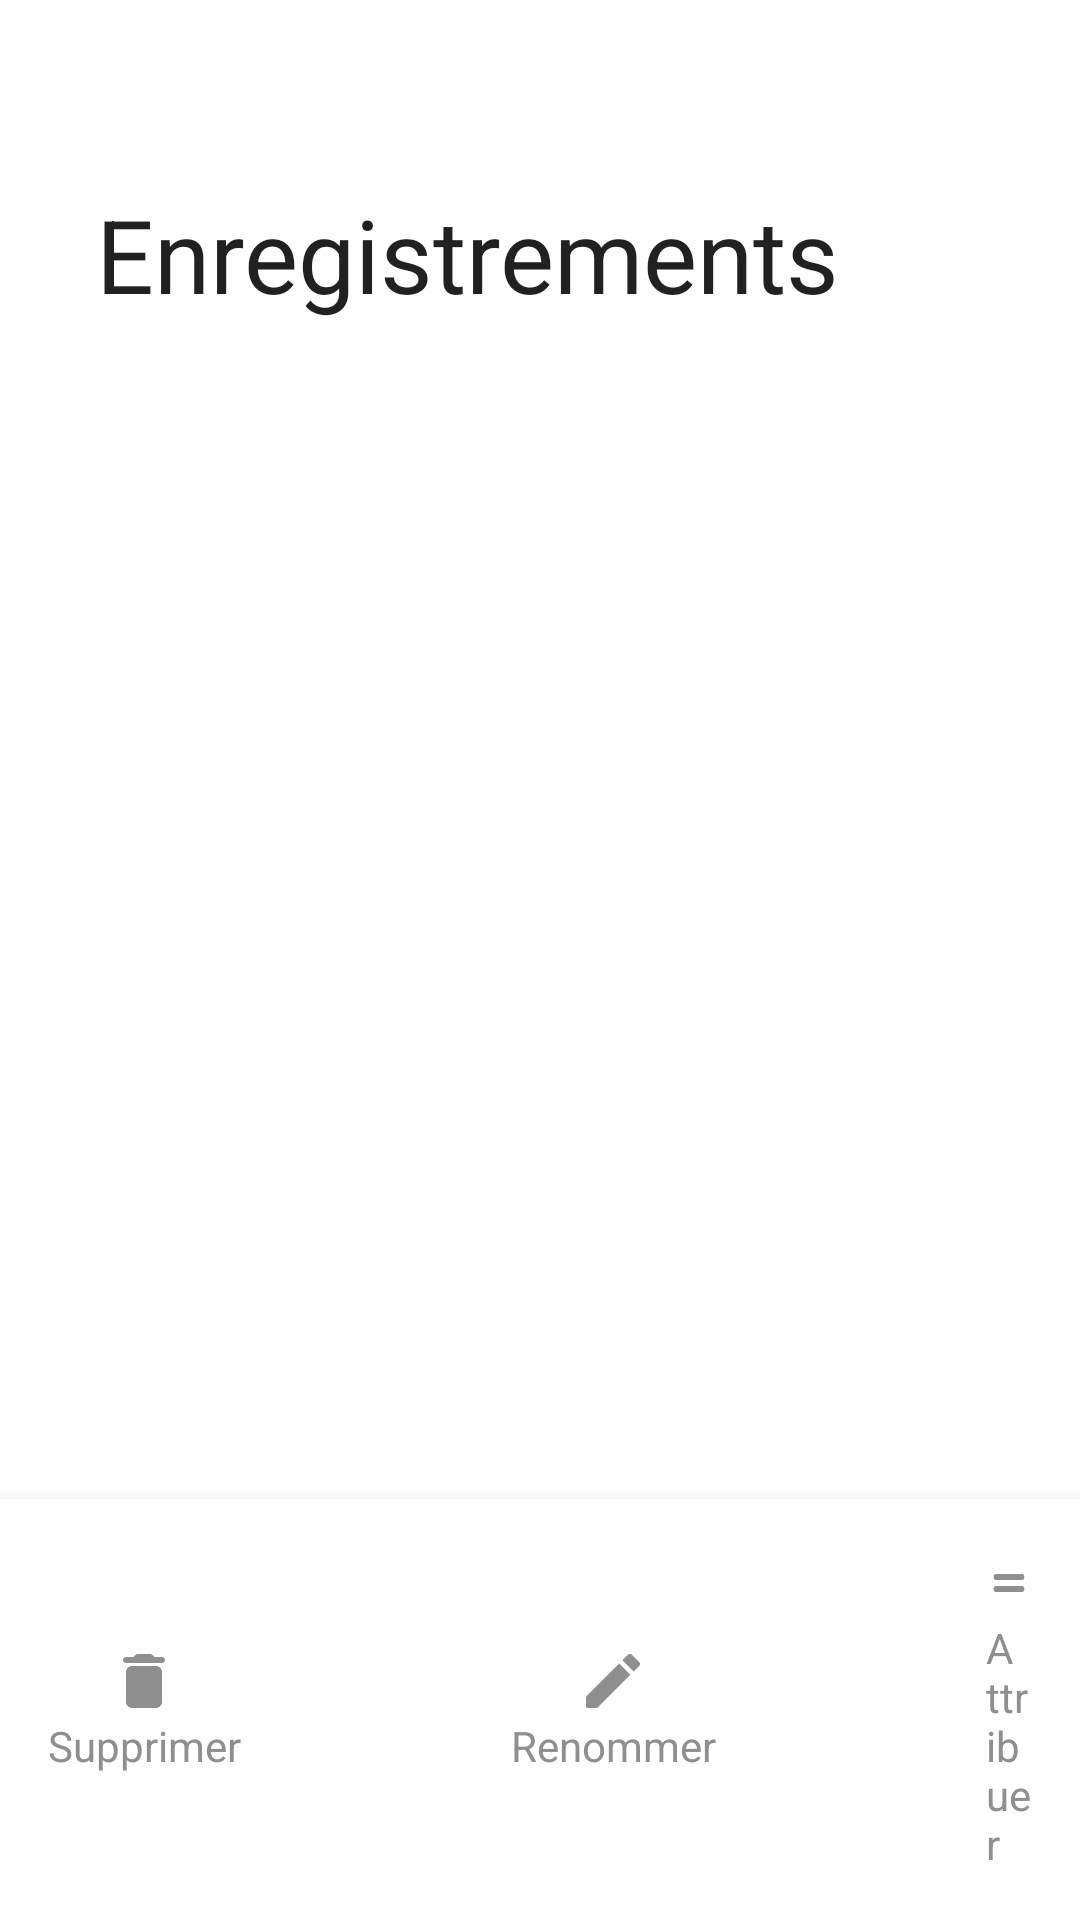

Named icons in this screenshot (1080×1920) and their bounding boxes, (x1, y1, x2, y2):
edit: (586, 1654, 640, 1708)
